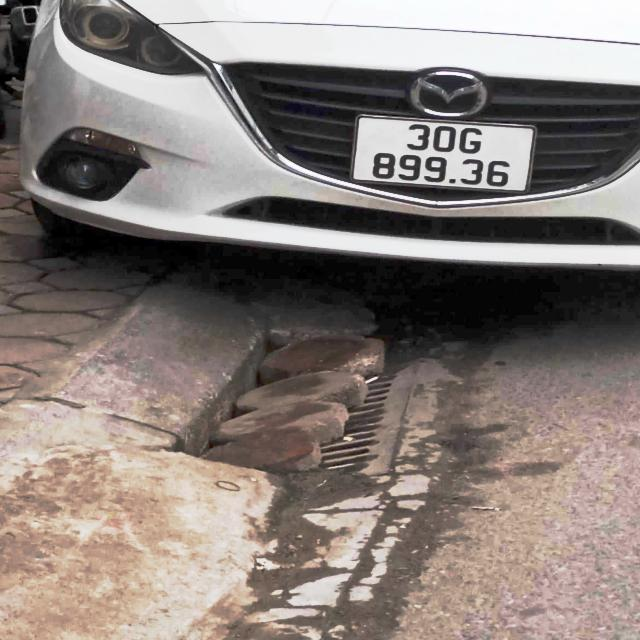license_plate: (353, 117, 540, 193)
